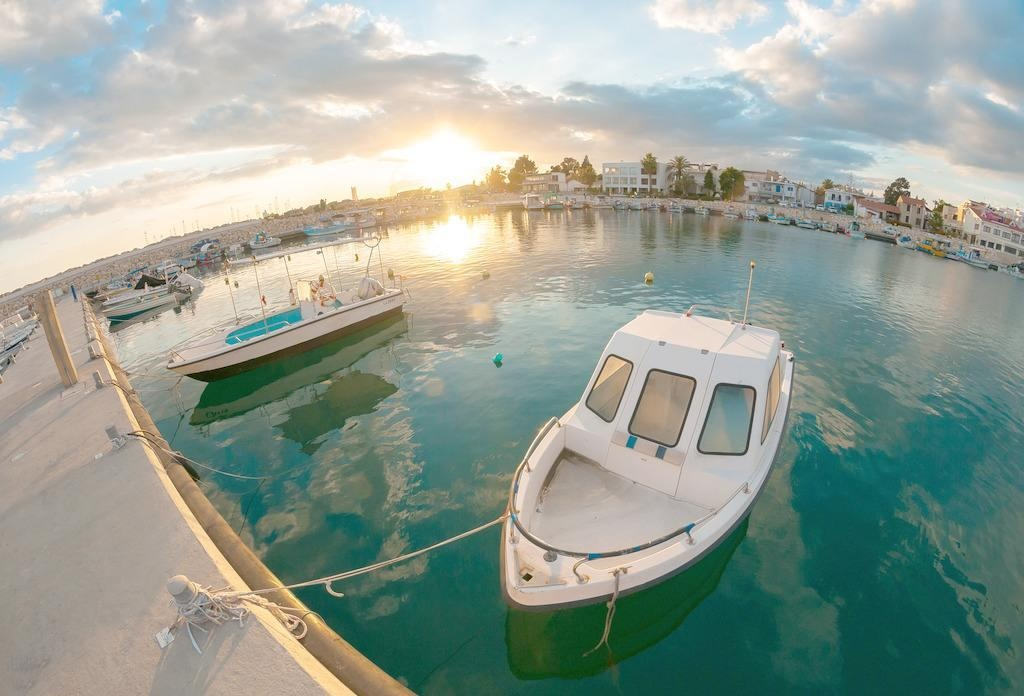otherboat: (489, 261, 809, 625), (154, 240, 406, 385)
